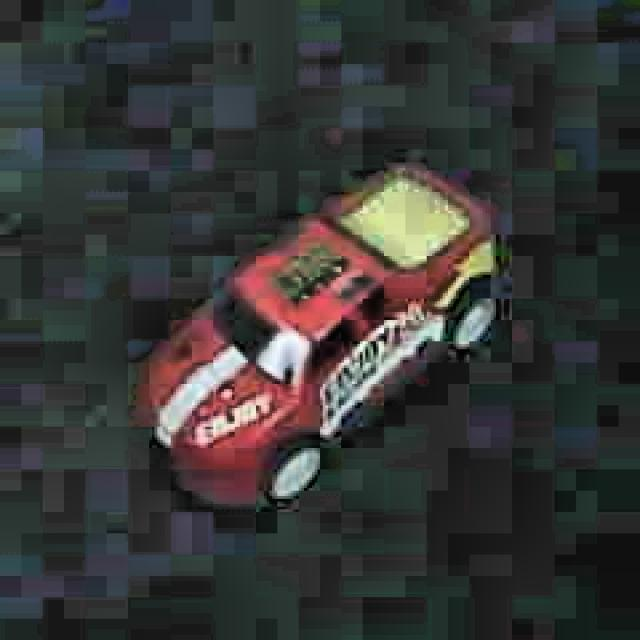car: (129, 158, 508, 516)
